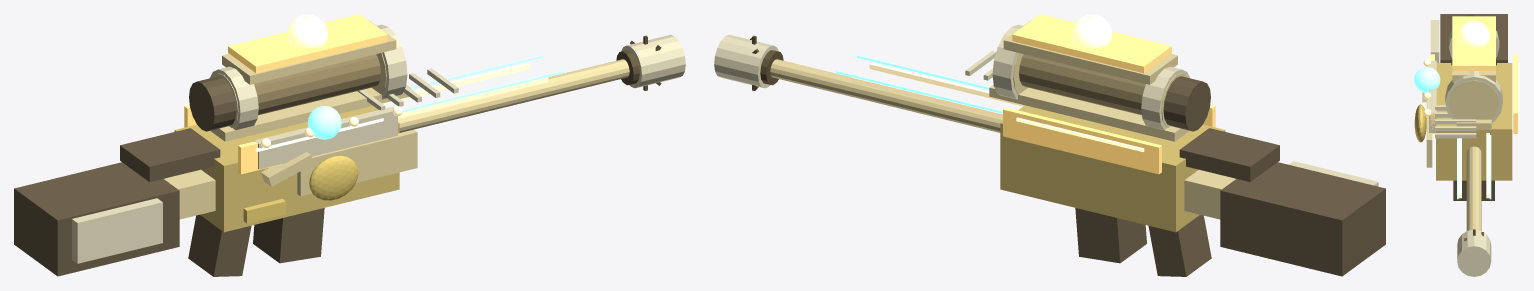
File: prime1-sniper.glb
The picture shows the model from 3 angles, left to right: view 1: azimuth 30°, elevation 25°; view 2: azimuth 150°, elevation 25°; view 3: azimuth 270°, elevation 25°; orthographic projection. The views are drawn at different scales.
Visible parts, largest first — view 1: BUTTSTOCK, RECEIVER, PRIME_STOCK_PLATE, SCOPE_TUBE, PRIME_UPGRADE_SCOPE_BROW, LONG_BARREL, CHEEK_REST, PRIME_RECEIVER_ARMOR, PRIME_SIDE_PLATE, MAGAZINE, GRIP, SCOPE_RAIL (+17 smaller); view 2: BUTTSTOCK, RECEIVER, PRIME_UPGRADE_RECEIVER_CROWN_R, SCOPE_TUBE, PRIME_UPGRADE_SCOPE_BROW, LONG_BARREL, CHEEK_REST, SCOPE_RAIL, MAGAZINE, GRIP, PRIME_MUZZLE_CROWN, SCOPE_EYEPIECE (+12 smaller); view 3: RECEIVER, PRIME_UPGRADE_SCOPE_BROW, SCOPE_FRONT_RING, PRIME_MUZZLE_CROWN, LONG_BARREL, BUTTSTOCK, PRIME_SCOPE_RING_FRONT, PRIME_UPGRADE_SCOPE_CENTER_GEM, PRIME_UPGRADE_HEARTLIGHT, MAGAZINE, PRIME_UPGRADE_RECEIVER_CROWN_R, PRIME_STOCK_PLATE (+16 smaller).
Boxes of the visible parts, x1,y1,x2,y2 form: BUTTSTOCK: [14, 162, 179, 276]; RECEIVER: [174, 106, 399, 232]; PRIME_STOCK_PLATE: [72, 198, 162, 263]; SCOPE_TUBE: [254, 54, 380, 115]; PRIME_UPGRADE_SCOPE_BROW: [228, 14, 387, 73]; LONG_BARREL: [398, 59, 629, 132]; CHEEK_REST: [120, 128, 220, 182]; PRIME_RECEIVER_ARMOR: [254, 106, 397, 169]; PRIME_SIDE_PLATE: [297, 130, 417, 196]; MAGAZINE: [253, 208, 324, 263]; GRIP: [188, 214, 251, 276]; SCOPE_RAIL: [210, 85, 410, 141]; BUTTSTOCK: [1220, 162, 1385, 276]; RECEIVER: [1000, 105, 1225, 232]; PRIME_UPGRADE_RECEIVER_CROWN_R: [1003, 107, 1161, 174]; SCOPE_TUBE: [1019, 54, 1145, 115]; PRIME_UPGRADE_SCOPE_BROW: [1012, 14, 1171, 73]; LONG_BARREL: [770, 59, 1002, 132]; CHEEK_REST: [1179, 128, 1279, 182]; SCOPE_RAIL: [989, 85, 1189, 141]; MAGAZINE: [1075, 208, 1146, 263]; GRIP: [1148, 214, 1211, 276]; PRIME_MUZZLE_CROWN: [714, 34, 778, 88]; SCOPE_EYEPIECE: [1163, 76, 1210, 131]; RECEIVER: [1436, 63, 1512, 180]; PRIME_UPGRADE_SCOPE_BROW: [1452, 16, 1495, 70]; SCOPE_FRONT_RING: [1449, 80, 1499, 119]; PRIME_MUZZLE_CROWN: [1457, 230, 1491, 276]; LONG_BARREL: [1466, 146, 1481, 230]; BUTTSTOCK: [1440, 14, 1507, 62]; PRIME_SCOPE_RING_FRONT: [1445, 71, 1502, 122]; PRIME_UPGRADE_SCOPE_CENTER_GEM: [1458, 21, 1489, 47]; PRIME_UPGRADE_HEARTLIGHT: [1414, 67, 1440, 92]; MAGAZINE: [1453, 180, 1494, 200]; PRIME_UPGRADE_RECEIVER_CROWN_R: [1513, 54, 1517, 133]; PRIME_STOCK_PLATE: [1430, 20, 1439, 62].
Bounding box in the file's own units: 2.62 × 0.9094 × 0.484.
